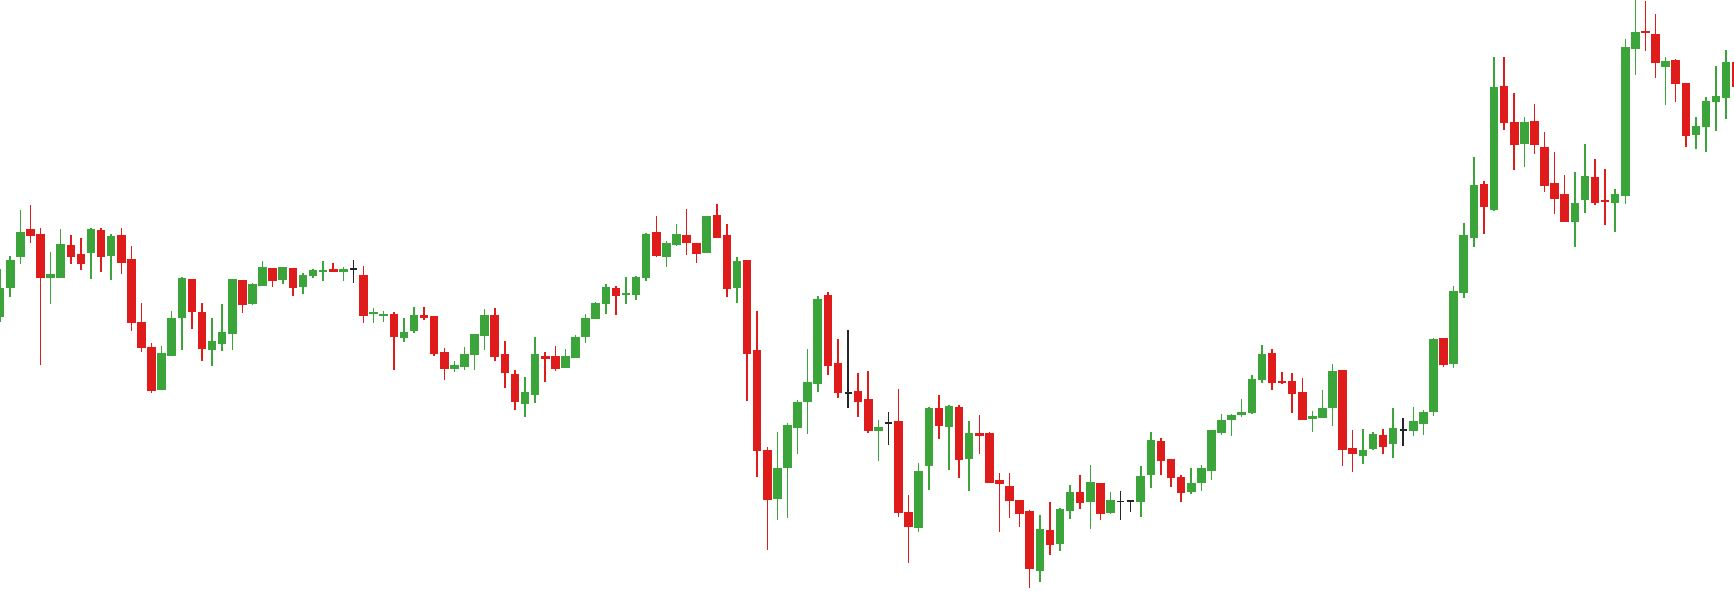buy: (32, 255, 167, 400), (905, 464, 1047, 591), (1479, 115, 1582, 256), (441, 330, 543, 426)
sell: (1483, 6, 1662, 107), (652, 204, 725, 255)
